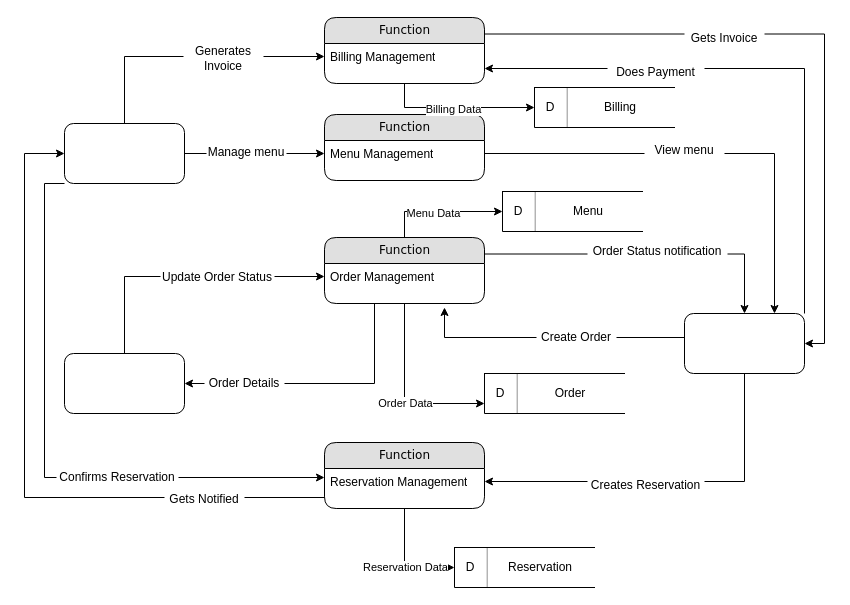
This 850x605 diagram has some shape labels left out. Each missing label, with the box of its shape:
Chef: (64, 352, 184, 414)
Customer: (684, 312, 804, 374)
Manager: (64, 122, 184, 184)
